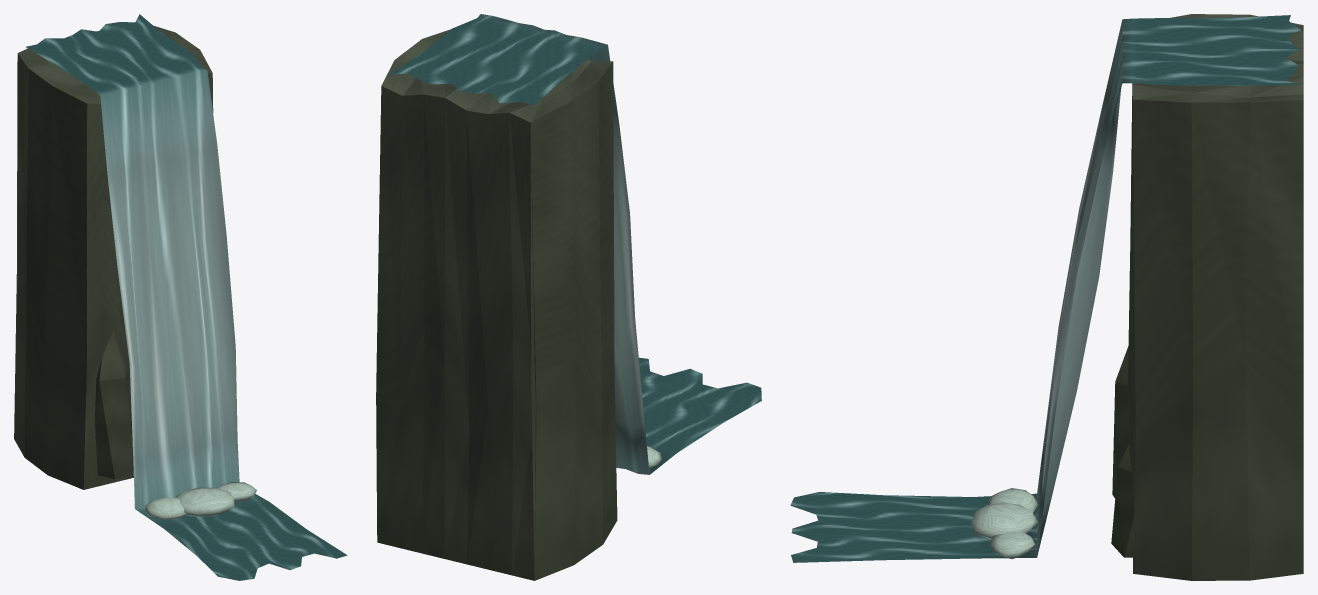
The model's file is fall-narrow-lod0.glb.
The picture shows the model from 3 angles, left to right: view 1: azimuth 30°, elevation 25°; view 2: azimuth 150°, elevation 25°; view 3: azimuth 270°, elevation 25°; orthographic projection. The views are drawn at different scales.
Bounding box in the file's own units: 0.4171 × 1 × 0.9629.
1 material, 1 textured.
